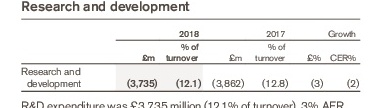table: (0, 0, 380, 108)
